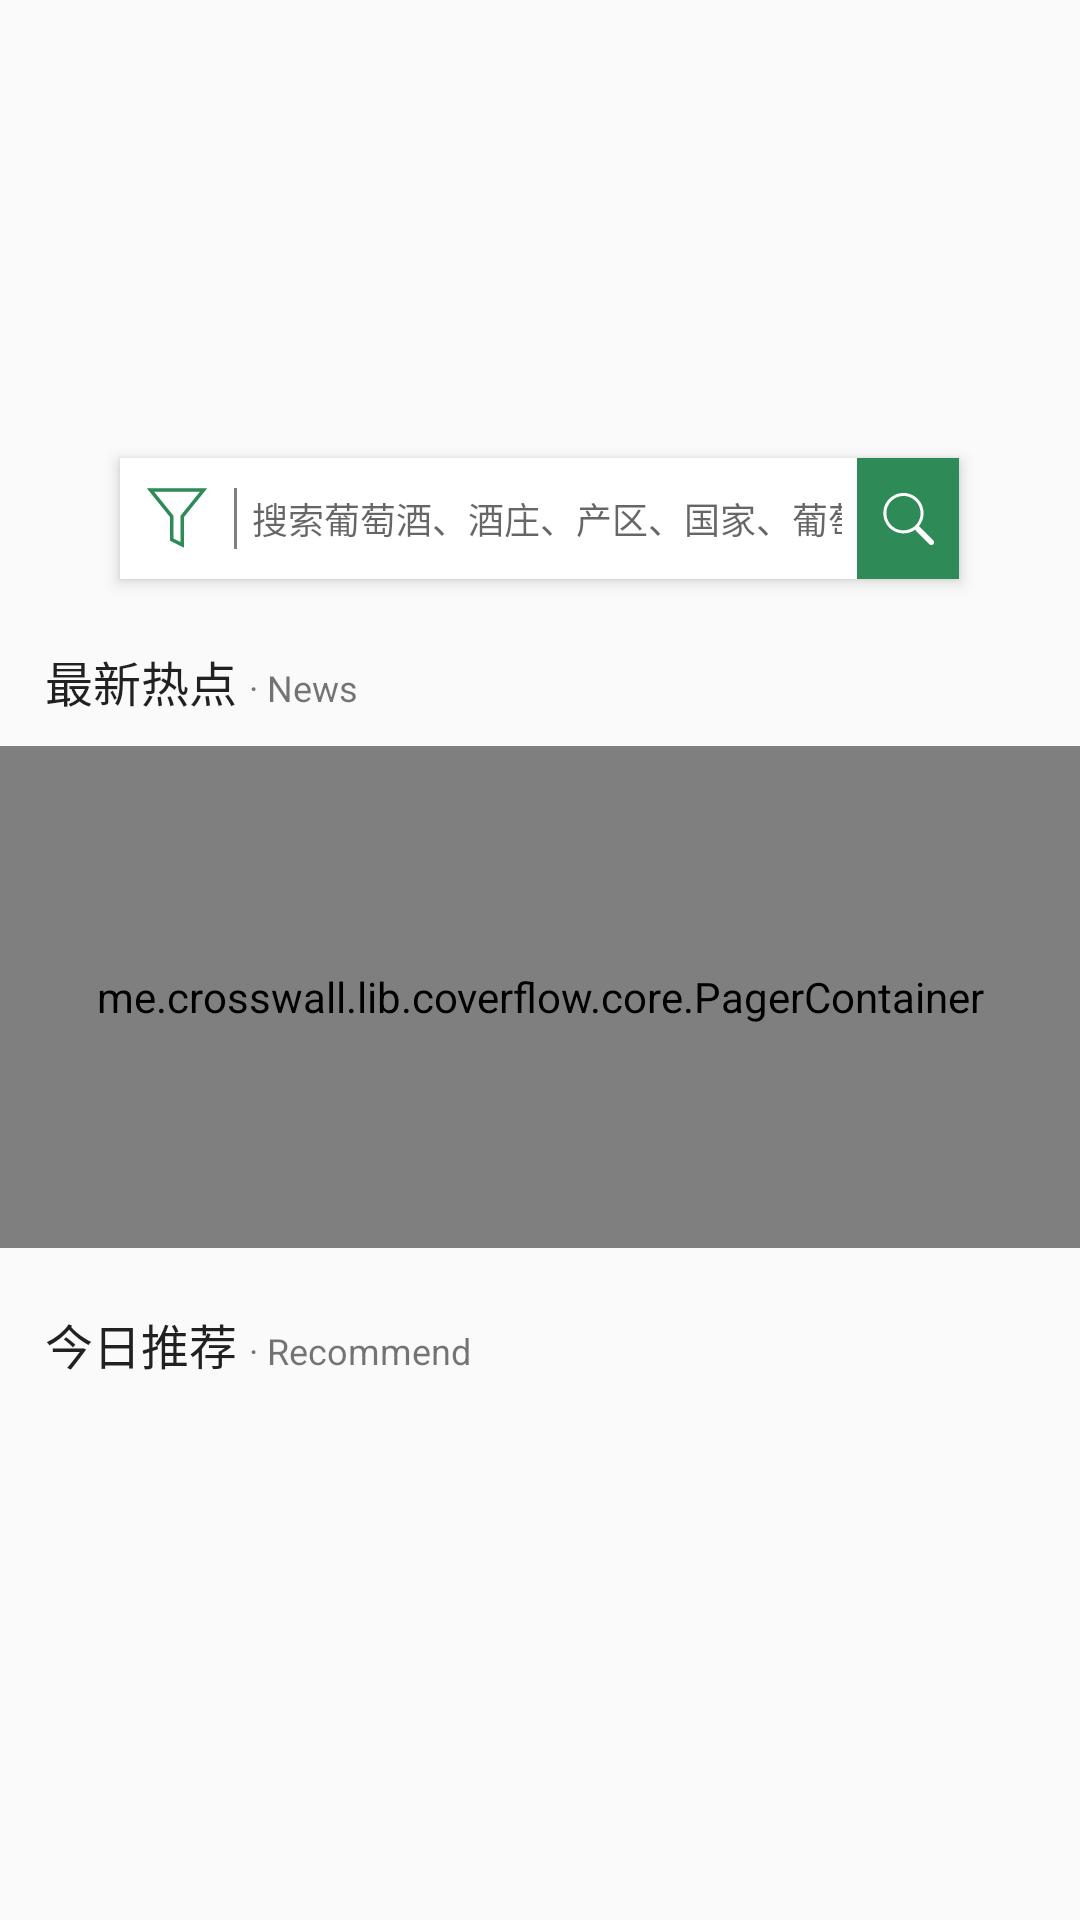

Where to tap for icons on this 1080px x 1920px app screen, as (x,y):
search: (908,518)
